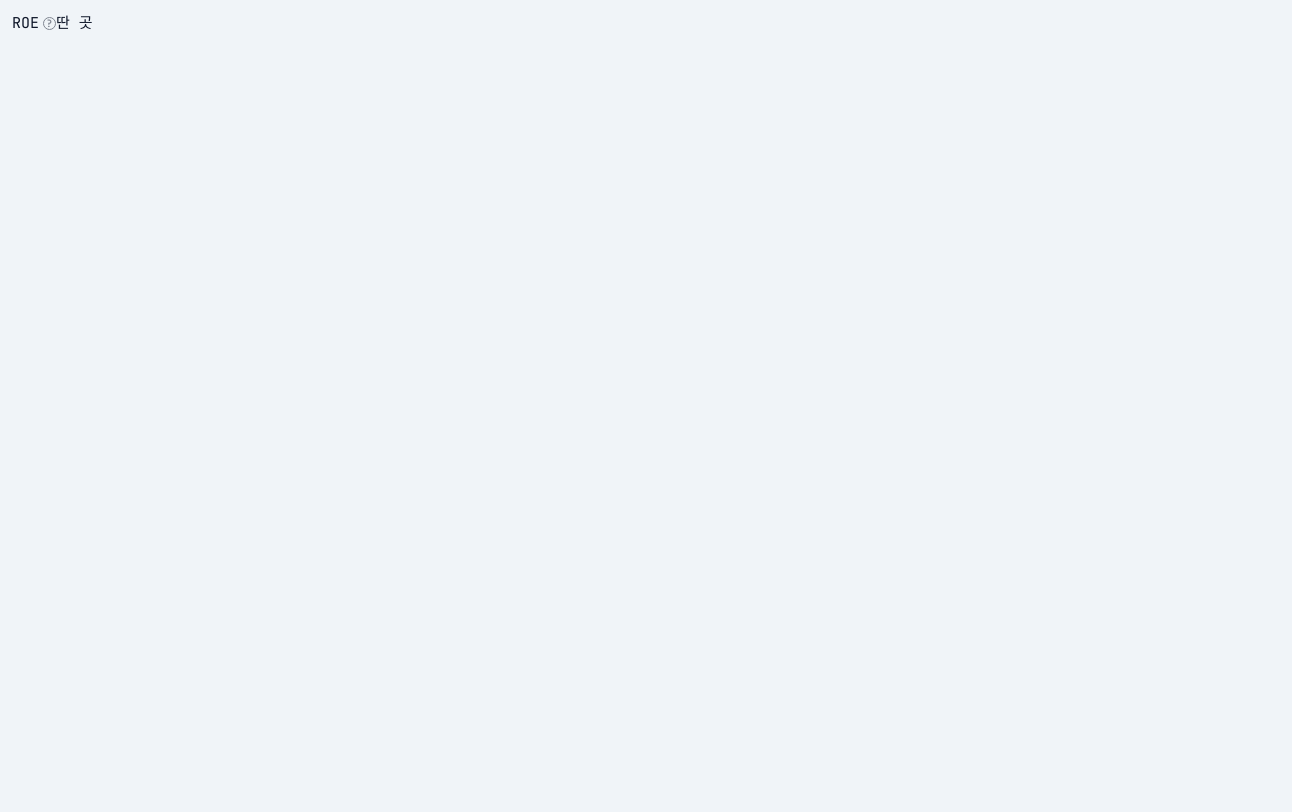
Test: 용어 힌트 › 바깥을 눌러도 닫힌다
Click the button named "ROE 설명". click: coordinates (49, 23)
box: [43,17,56,30]
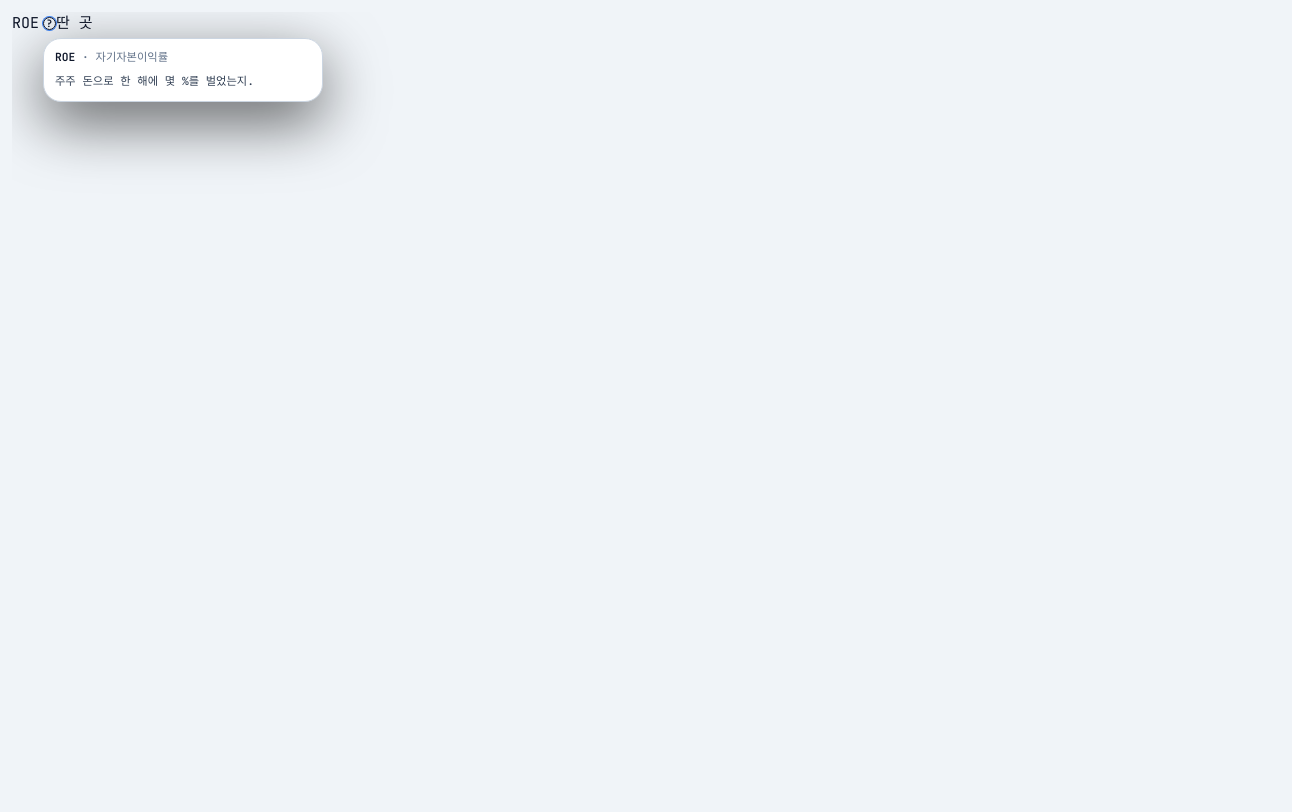
Note: 덮개가 화면을 가리므로 실제 사용자는 덮개를 누르게 된다
Click the element with class "inset-0". click: coordinates (652, 412)
box: [12,12,1291,811]
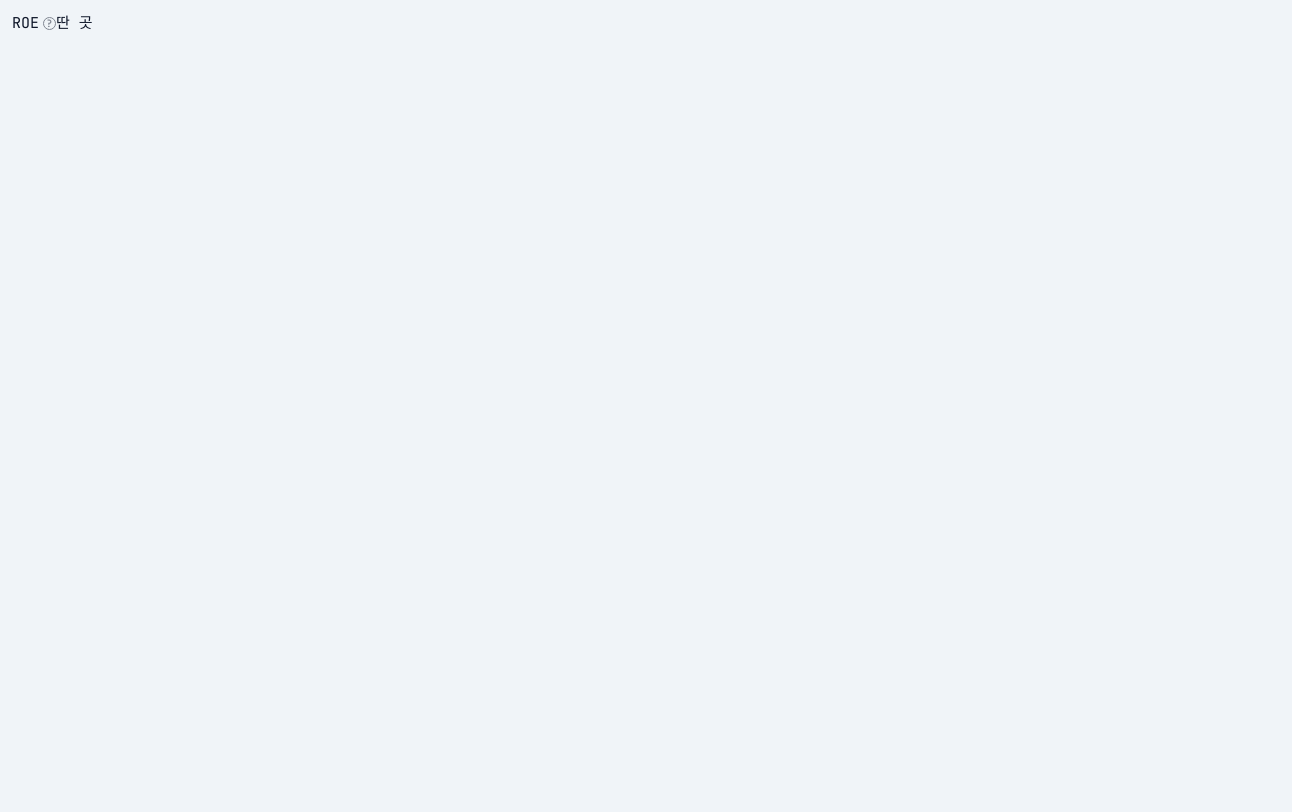
expect the tooltip "ROE· 자기자본이익률 주주 돈으로 한 해에 몇 %를 벌었는지." is gone: met
